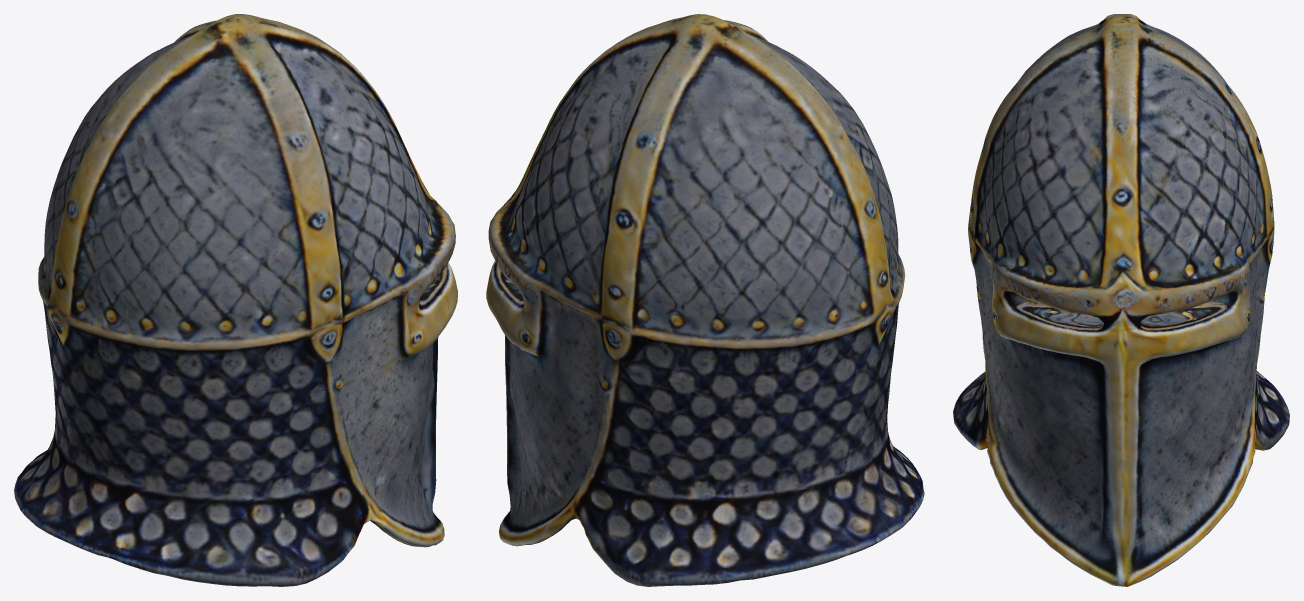
The model's file is e4d1012f625c_Medival_knight_helm.fbx.
The picture shows the model from 3 angles, left to right: view 1: azimuth 30°, elevation 25°; view 2: azimuth 150°, elevation 25°; view 3: azimuth 270°, elevation 25°; orthographic projection. The views are drawn at different scales.
Visible parts, largest first — view 1: mesh; view 2: mesh; view 3: mesh.
Part boxes in pixels (box(x1,y1,x2,y2)): mesh: box(14, 14, 457, 586); mesh: box(486, 14, 924, 586); mesh: box(953, 14, 1289, 586).
Size of the model in its own units: 74.57 by 99.63 by 63.15.
